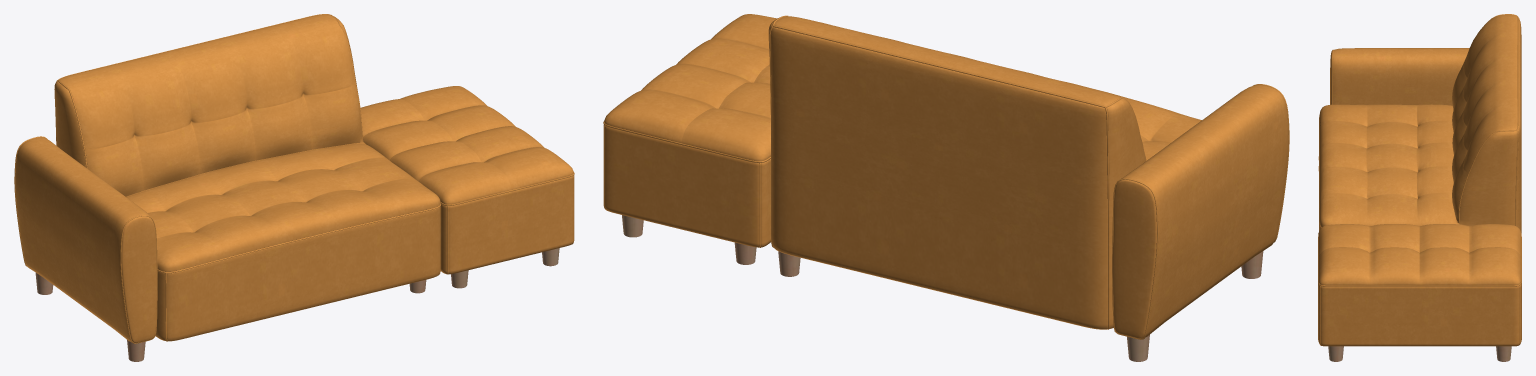
File: sofa2.glb
3 views of the same model, side by side, from view 1: azimuth 30°, elevation 25°; view 2: azimuth 150°, elevation 25°; view 3: azimuth 270°, elevation 25° (orthographic). The views are drawn at different scales.
Parts seen in each view (by area): view 1: Left; view 2: Left; view 3: Left.
Part boxes in pixels (bbox=[...]): Left: bbox=[14, 14, 574, 361]; Left: bbox=[603, 14, 1289, 361]; Left: bbox=[1318, 14, 1521, 361].
Bounding box in the file's own units: 1.67 × 0.73 × 0.75.
1 material, 1 textured.
